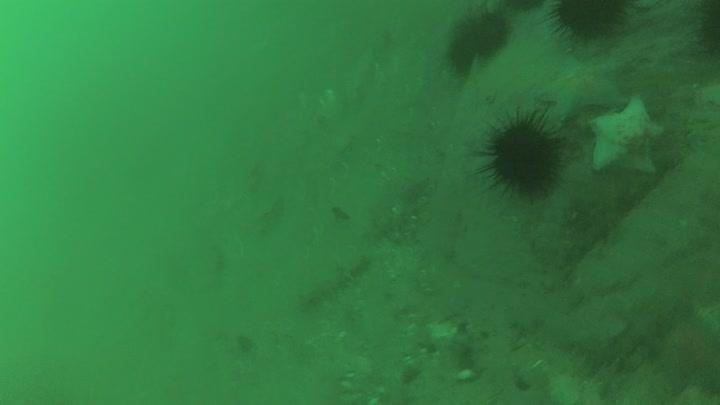echinus: (476, 108, 568, 200), (442, 5, 514, 77), (546, 0, 634, 44), (692, 0, 720, 60)
holothurian: (297, 250, 371, 311)
starfish: (642, 300, 720, 400), (586, 93, 672, 179), (534, 52, 633, 125)
